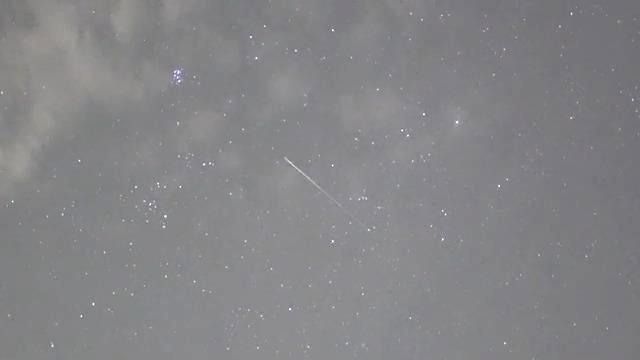meteorite: (262, 151, 359, 206)
